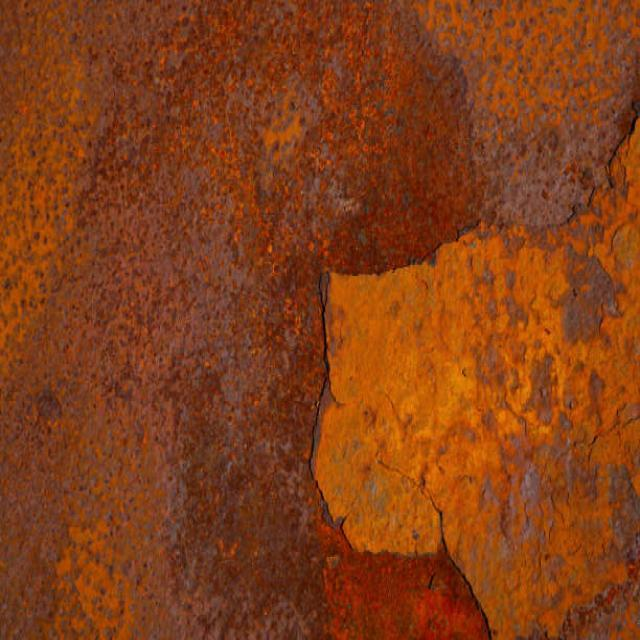Defect: (310, 266, 354, 534)
